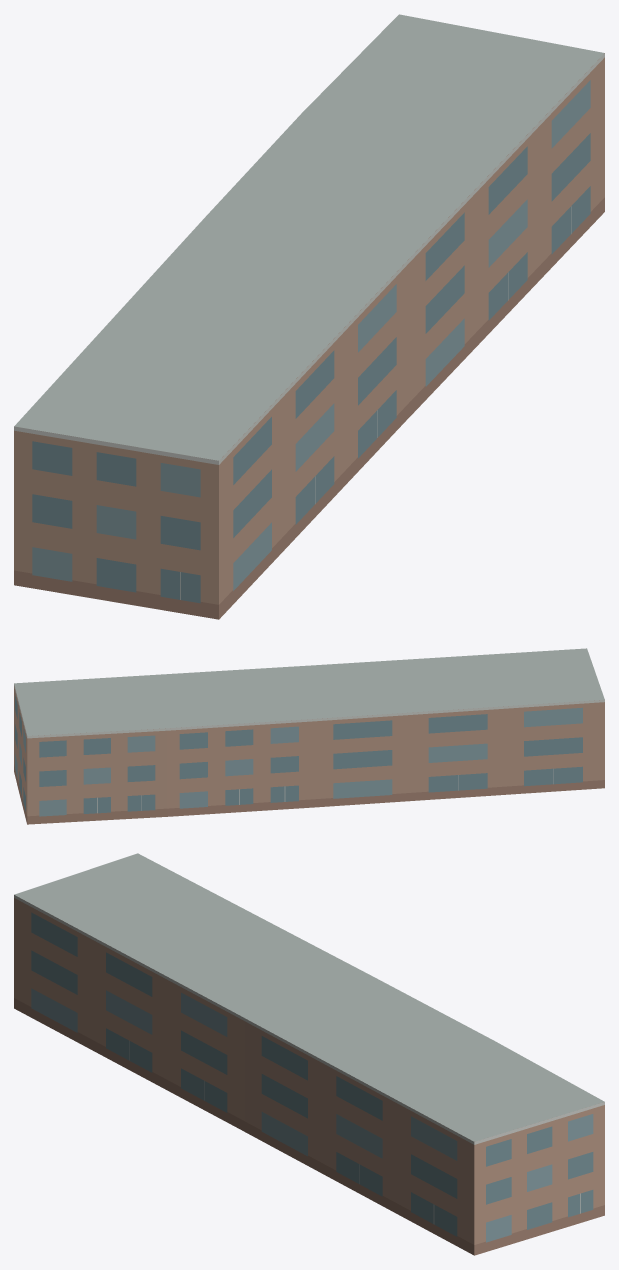
Rendered from survey-upis-32756099.glb.
3 renders of one model, top to bottom at view 1: azimuth 30°, elevation 25°; view 2: azimuth 150°, elevation 25°; view 3: azimuth 270°, elevation 25°, orthographic. The views are drawn at different scales.
Visible parts, largest first — view 1: survey-upis-32756099.tmp; view 2: survey-upis-32756099.tmp; view 3: survey-upis-32756099.tmp.
Boxes of the visible parts, box(x1,y1,x2,y2) form: survey-upis-32756099.tmp: box(14, 14, 604, 619); survey-upis-32756099.tmp: box(14, 648, 604, 824); survey-upis-32756099.tmp: box(14, 853, 604, 1255).
Size of the model in its own units: 49.8 by 9.15 by 43.09.
